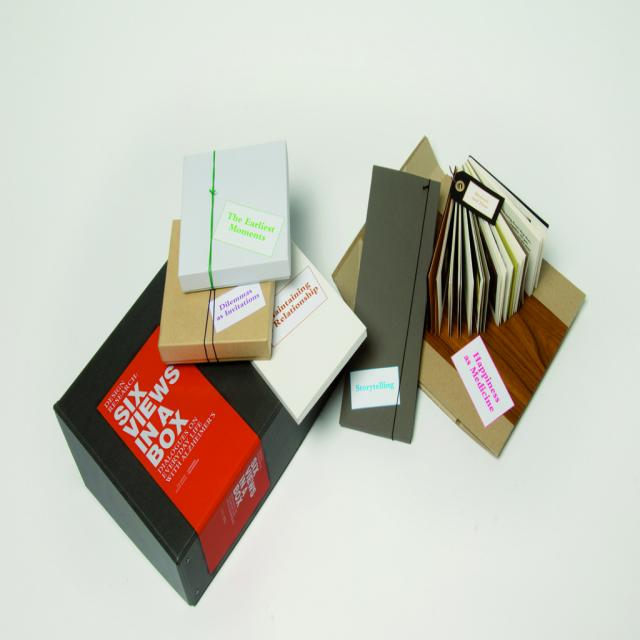Box: (52, 260, 320, 606), (178, 140, 292, 296), (157, 219, 275, 362)
